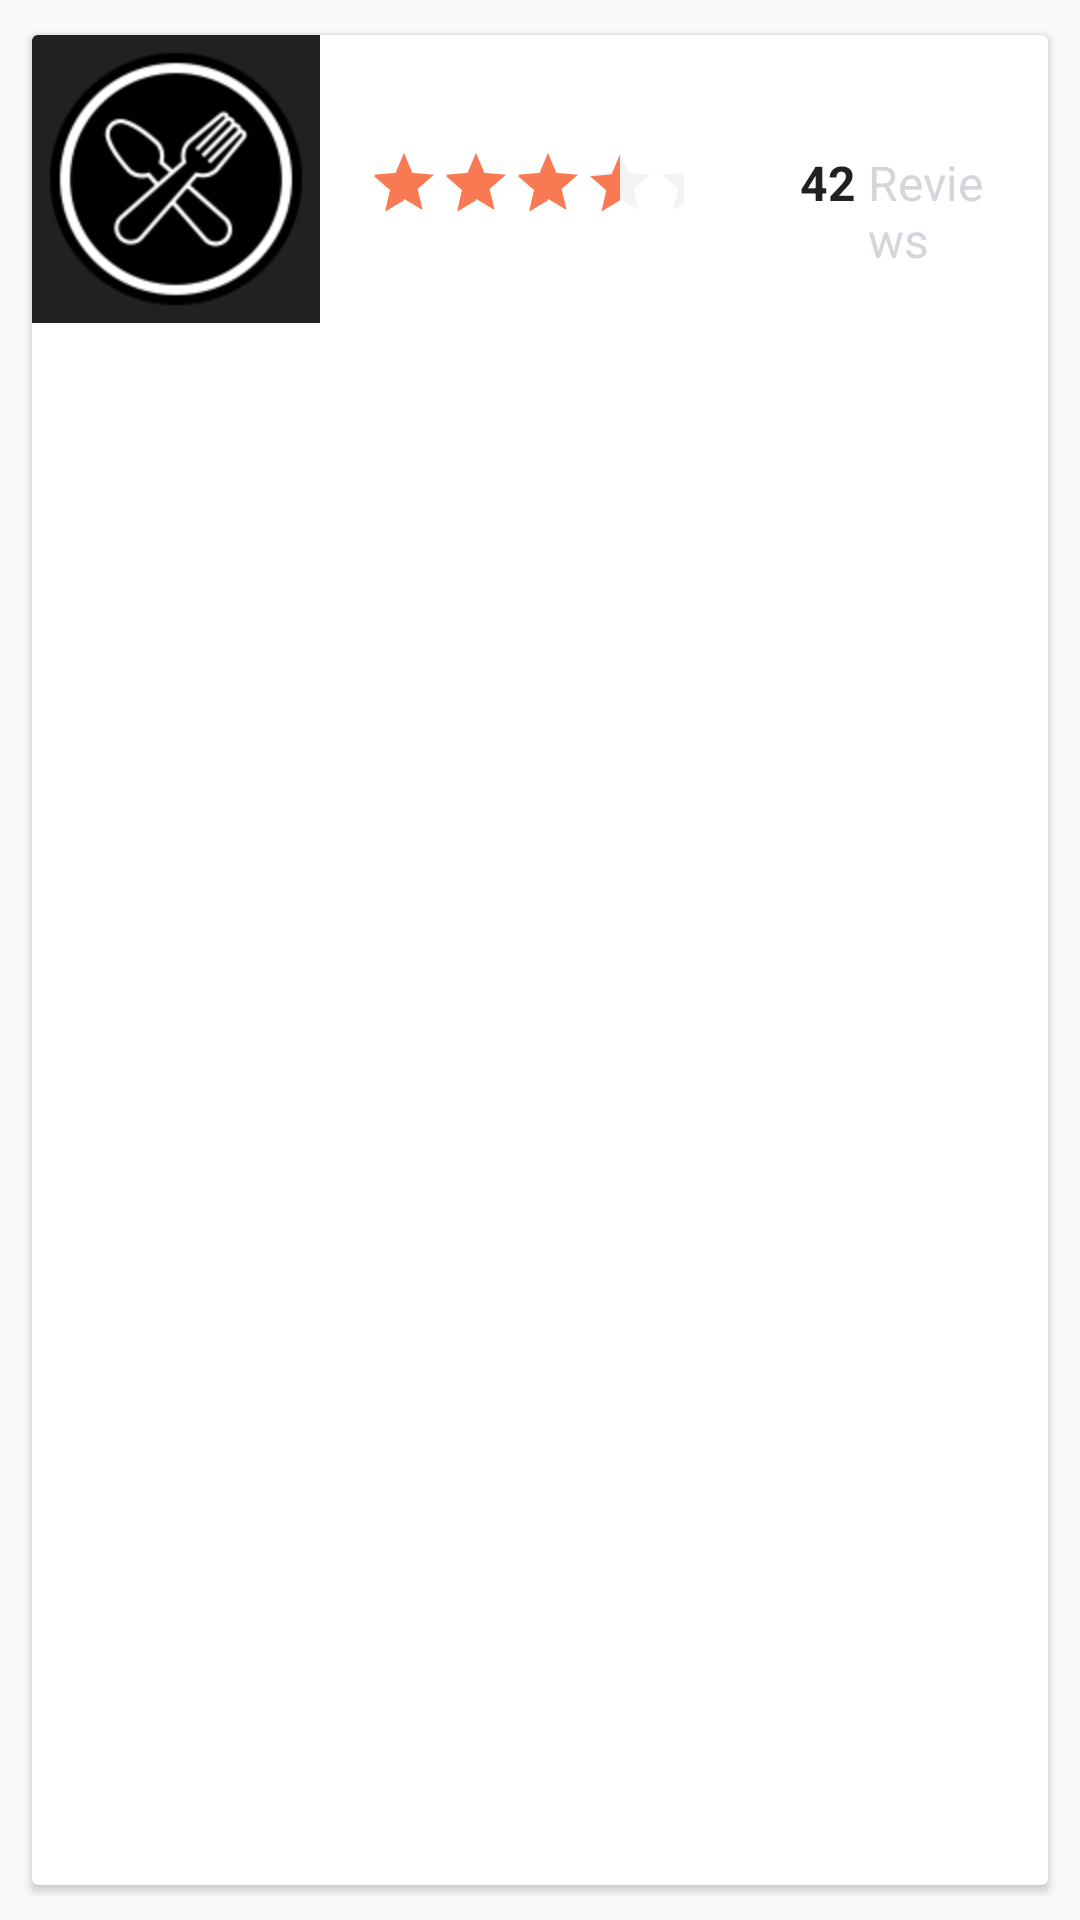

Where to tap for icons on this 1080*1920 app screen, as [x,y]:
food: [176,179]
